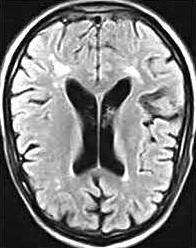Normal_Brain: (1, 1, 196, 237)
